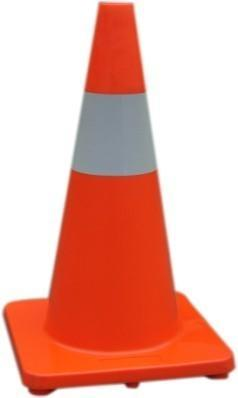cone_barrel: (47, 0, 187, 362)
